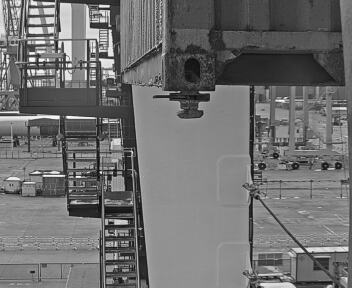twist_lock_1: (162, 80, 216, 129)
